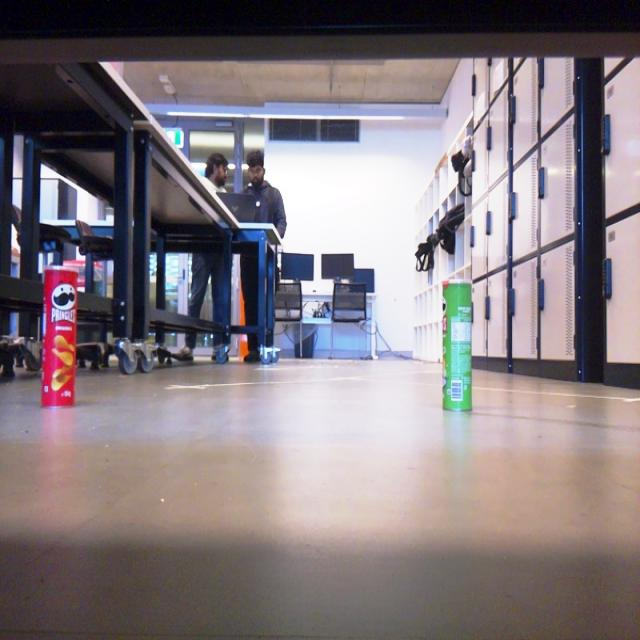greenpringles: (428, 275, 480, 425)
redpringles: (33, 260, 86, 416)
